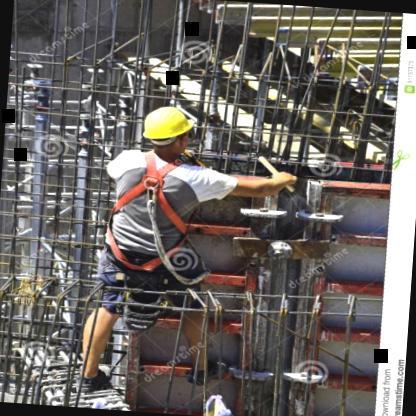helmet: (135, 98, 204, 162)
